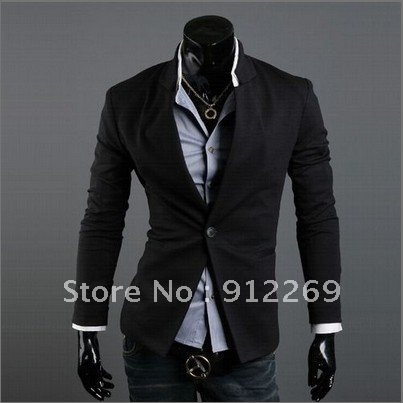F_M_suit jacket: (70, 39, 344, 359)
